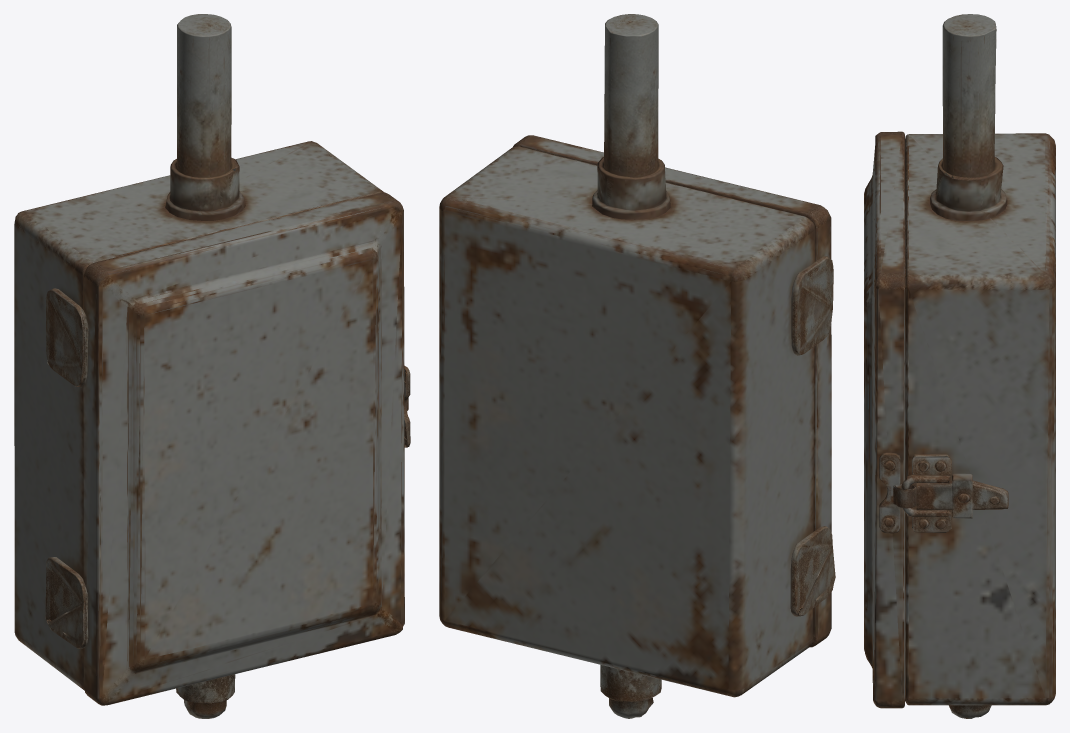
Rendered from silo81_fuse_box.glb.
3 views of the same model, side by side, from view 1: azimuth 30°, elevation 25°; view 2: azimuth 150°, elevation 25°; view 3: azimuth 270°, elevation 25° (orthographic).
Size of the model in its own units: 0.4819 by 0.9512 by 0.2397.
1 material, 1 textured.
